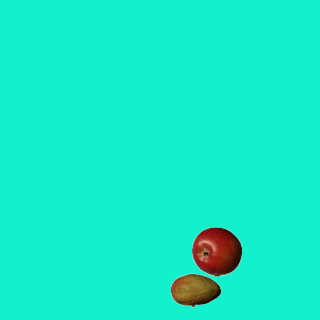Apple Braeburn: (191, 226, 241, 276)
Papaya: (170, 265, 220, 315)
